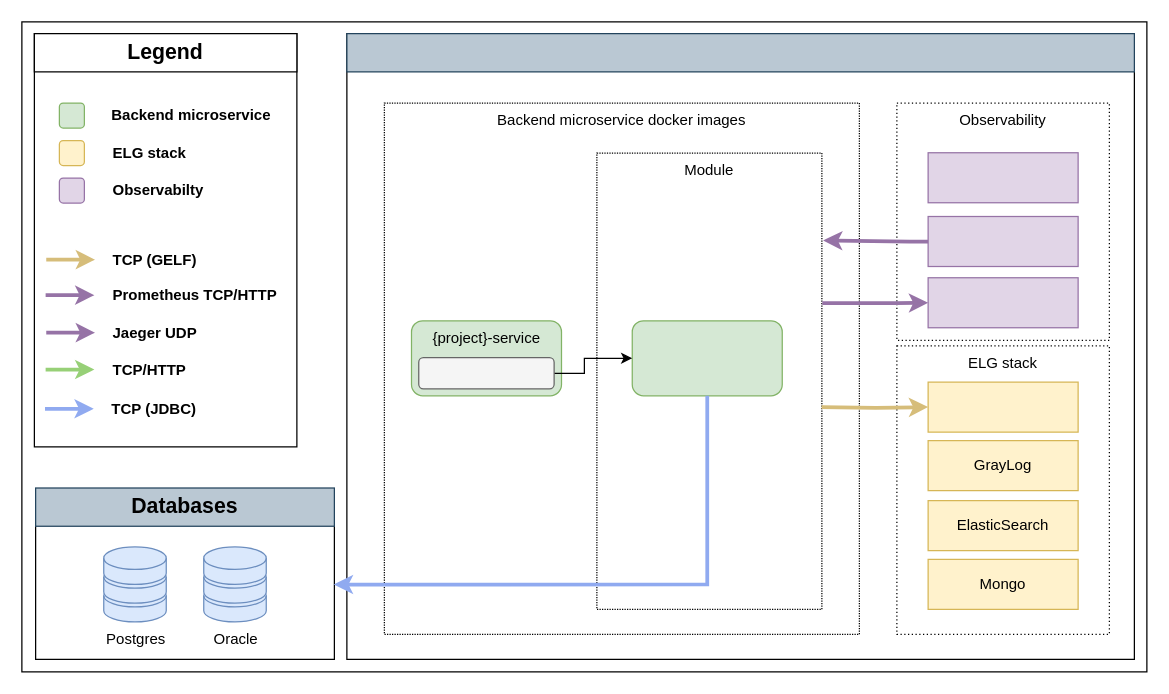
This 1169x694 diagram has some shape labels left out. Here are the shapes that lost their labels. From the top down, the centre of each, then its label:
pixel 740 52: K8S
pixel 1002 177: Grafana
pixel 1002 240: Prometheus
pixel 1002 302: Jaeger
pixel 486 372: dookug-client
pixel 706 358: dookug-document-service
pixel 1002 406: Logstash
